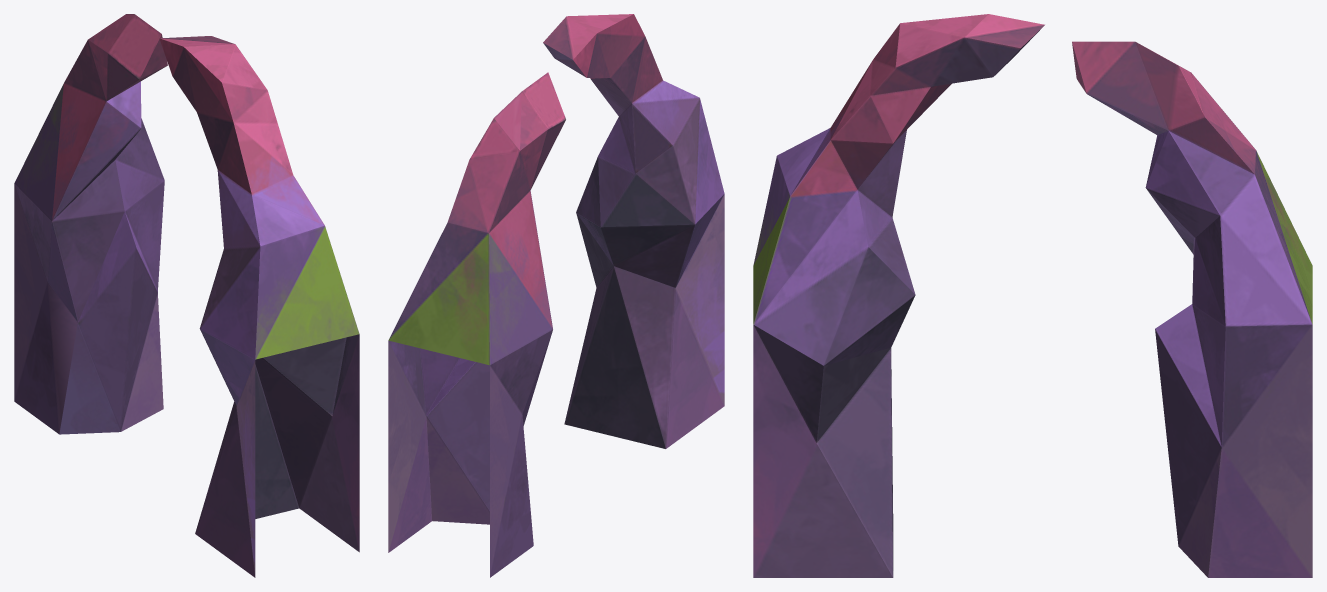
Rendered from door01.fbx.
3 views of the same model, side by side, from view 1: azimuth 30°, elevation 25°; view 2: azimuth 150°, elevation 25°; view 3: azimuth 270°, elevation 25° (orthographic). The views are drawn at different scales.
Parts seen in each view (by area): view 1: door01; view 2: door01; view 3: door01.
Boxes of the visible parts, <box> form: door01: <box>14,14,359,577</box>; door01: <box>388,14,724,577</box>; door01: <box>753,14,1312,577</box>.
Bounding box in the file's own units: 0.013 × 0.0412 × 0.04.
